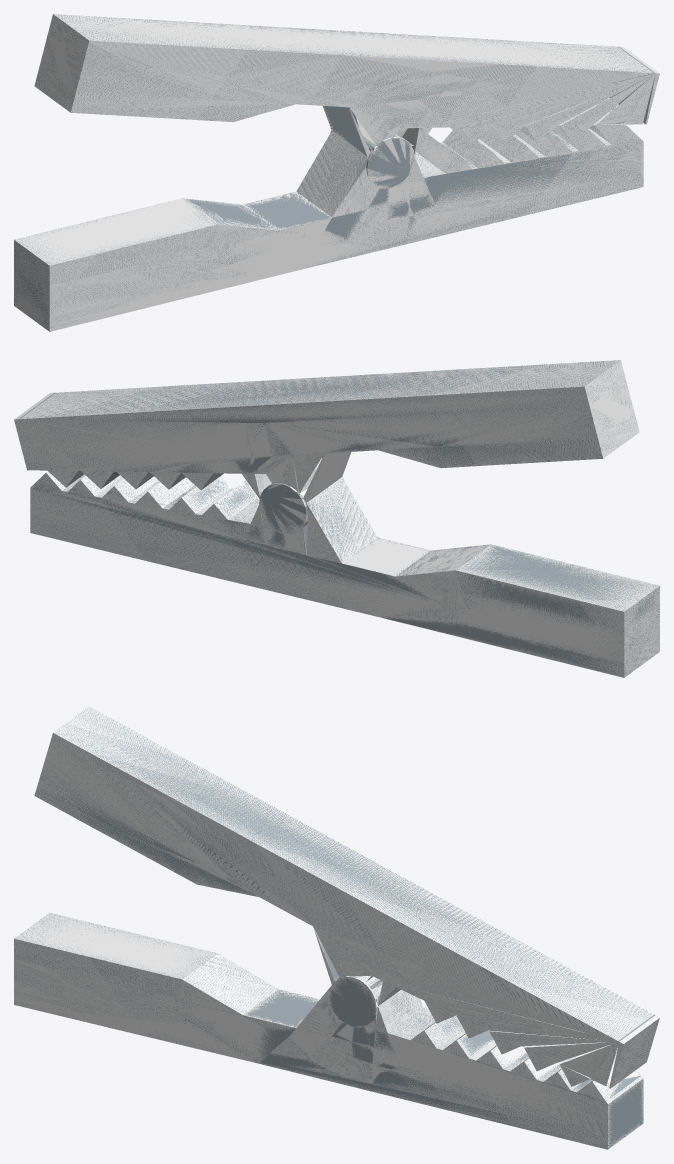
File: Clamp.fbx
3 renders of one model, top to bottom at view 1: azimuth 30°, elevation 25°; view 2: azimuth 150°, elevation 25°; view 3: azimuth 330°, elevation 25°, orthographic.
Visible parts, largest first — view 1: Model; view 2: Model; view 3: Model.
Boxes of the visible parts, bbox=[...] form: Model: bbox=[14, 14, 659, 331]; Model: bbox=[14, 360, 659, 677]; Model: bbox=[14, 706, 659, 1149].
Bounding box in the file's own units: 13.7 × 6.05 × 1.49.
